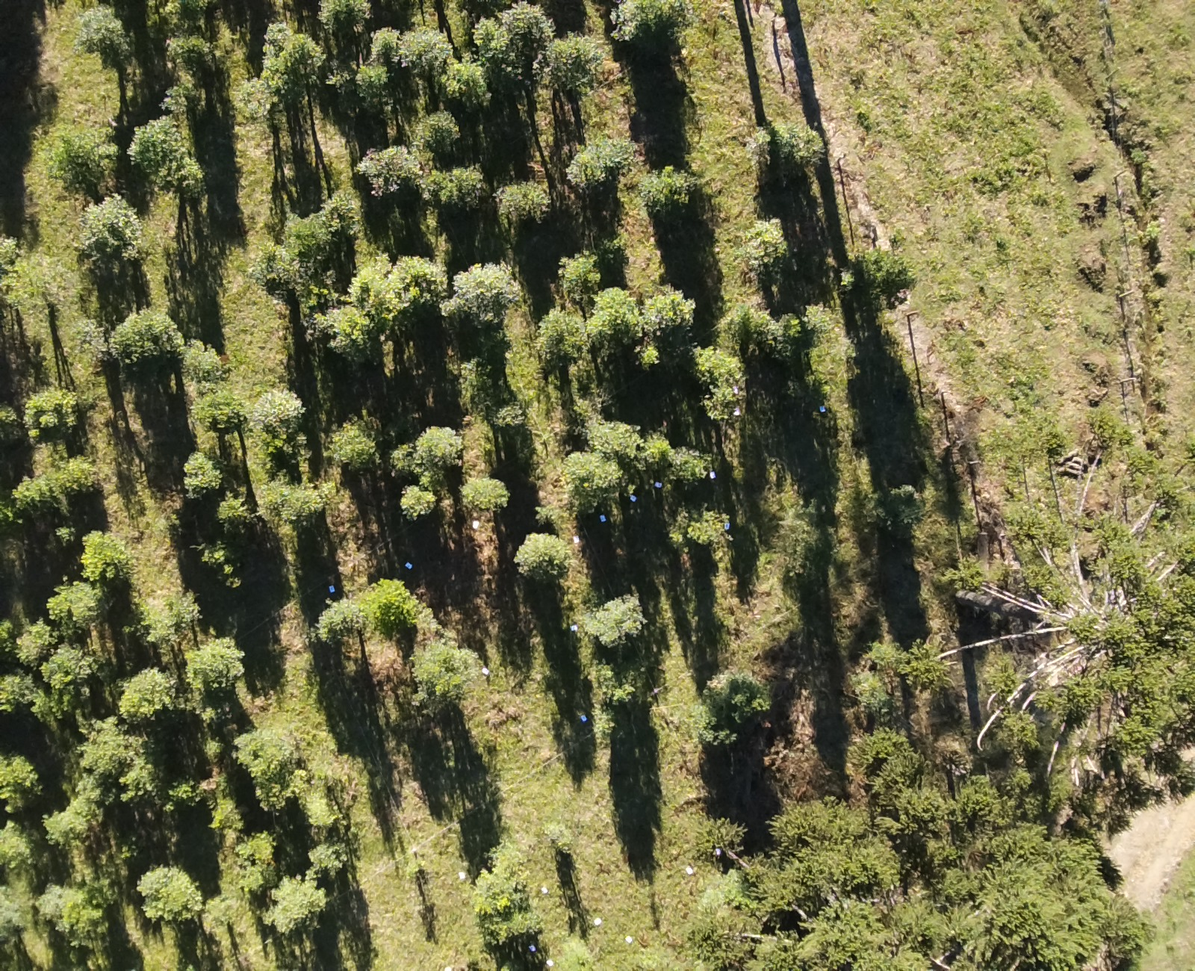erva: (737, 119, 826, 187), (445, 261, 523, 335), (840, 246, 925, 311), (77, 198, 153, 269), (72, 14, 154, 79), (46, 133, 126, 199), (389, 242, 456, 320), (108, 300, 187, 365), (361, 574, 429, 648), (186, 633, 257, 703), (344, 251, 404, 329), (556, 444, 622, 510), (229, 729, 295, 794), (323, 415, 392, 477), (13, 237, 76, 303), (137, 586, 206, 646), (701, 662, 766, 725), (60, 717, 126, 779), (582, 582, 666, 630), (425, 158, 494, 215), (261, 475, 326, 535), (304, 305, 370, 364), (507, 529, 581, 581), (538, 40, 606, 96), (20, 384, 86, 441), (132, 863, 200, 918), (34, 639, 97, 698), (406, 647, 483, 695), (471, 910, 553, 955), (536, 308, 595, 370), (745, 209, 795, 281), (313, 588, 370, 650), (568, 128, 625, 190), (610, 4, 696, 45), (589, 413, 648, 472), (586, 291, 648, 347), (491, 177, 553, 232), (462, 10, 519, 68), (462, 465, 518, 524), (79, 520, 136, 577), (354, 144, 418, 193), (676, 509, 733, 563), (41, 582, 105, 630), (439, 55, 496, 108), (683, 695, 734, 753), (251, 243, 306, 296), (119, 669, 181, 716), (125, 111, 176, 168), (491, 6, 553, 52), (196, 389, 245, 447), (463, 870, 534, 910), (164, 27, 223, 75), (257, 389, 311, 441), (117, 745, 162, 807), (723, 299, 774, 353), (0, 751, 41, 816), (559, 250, 603, 310), (644, 161, 698, 209), (395, 22, 446, 72), (645, 291, 707, 332), (590, 662, 639, 713), (195, 792, 249, 838), (569, 619, 650, 649), (195, 538, 247, 583), (617, 338, 674, 379), (315, 190, 358, 244), (700, 385, 751, 429), (279, 204, 322, 256), (249, 69, 303, 110), (179, 454, 225, 502), (322, 0, 391, 32), (271, 869, 320, 914), (675, 450, 724, 494), (170, 158, 217, 203), (257, 21, 308, 62), (40, 813, 95, 850), (298, 834, 344, 878), (424, 432, 465, 480), (686, 346, 735, 386), (413, 103, 461, 143), (187, 341, 235, 380), (10, 465, 49, 513), (394, 482, 438, 523), (392, 439, 430, 486), (368, 23, 412, 63), (60, 783, 108, 817), (544, 819, 586, 857), (205, 875, 242, 918), (645, 427, 680, 471), (802, 304, 851, 335), (347, 66, 397, 96), (484, 398, 524, 435), (62, 456, 103, 492), (217, 491, 258, 525), (4, 827, 33, 875), (12, 619, 47, 657), (240, 837, 278, 872), (288, 43, 328, 75), (7, 671, 33, 709)
